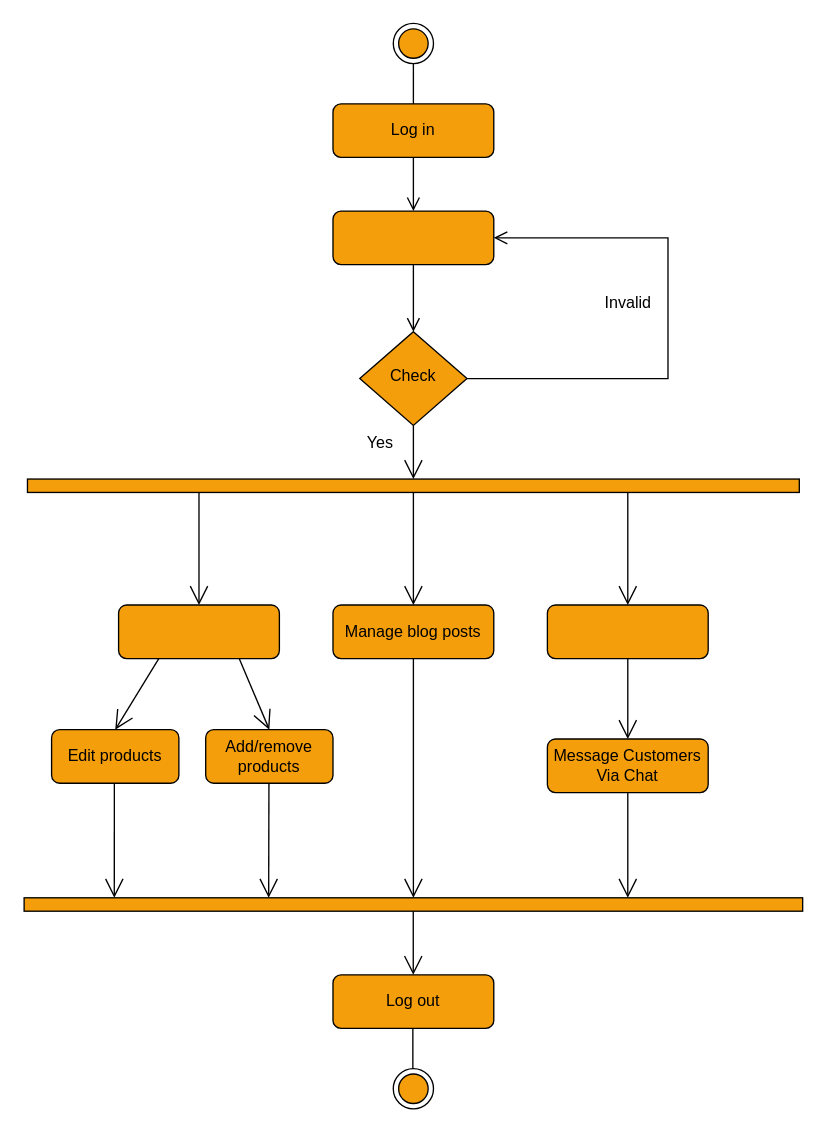
The diagram is 825 pixels wide and 1132 high, and some of its shapes have lost their labels. Each missing label, with the centre of its shape:
"Authentication" goes at pixel 413 237.
"Manage Custom Orders" goes at pixel 627 631.
"Manage products" goes at pixel 198 631.
